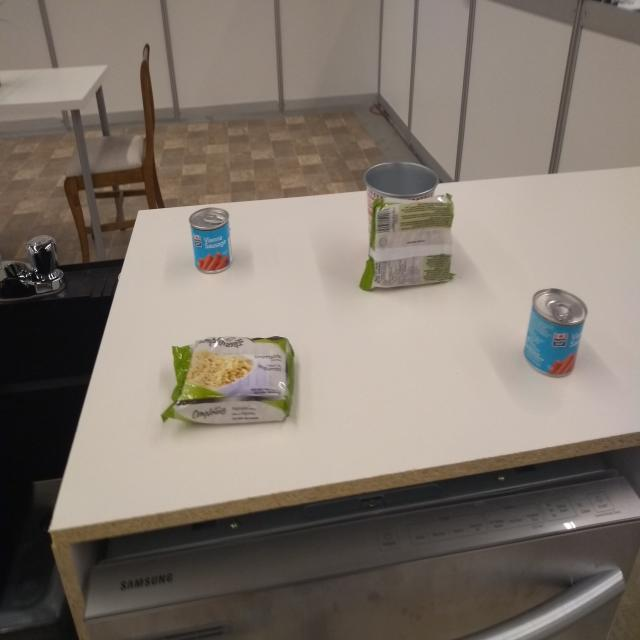noodles: (158, 331, 300, 433), (357, 190, 460, 296)
sausages: (521, 284, 589, 381), (186, 201, 236, 278)
